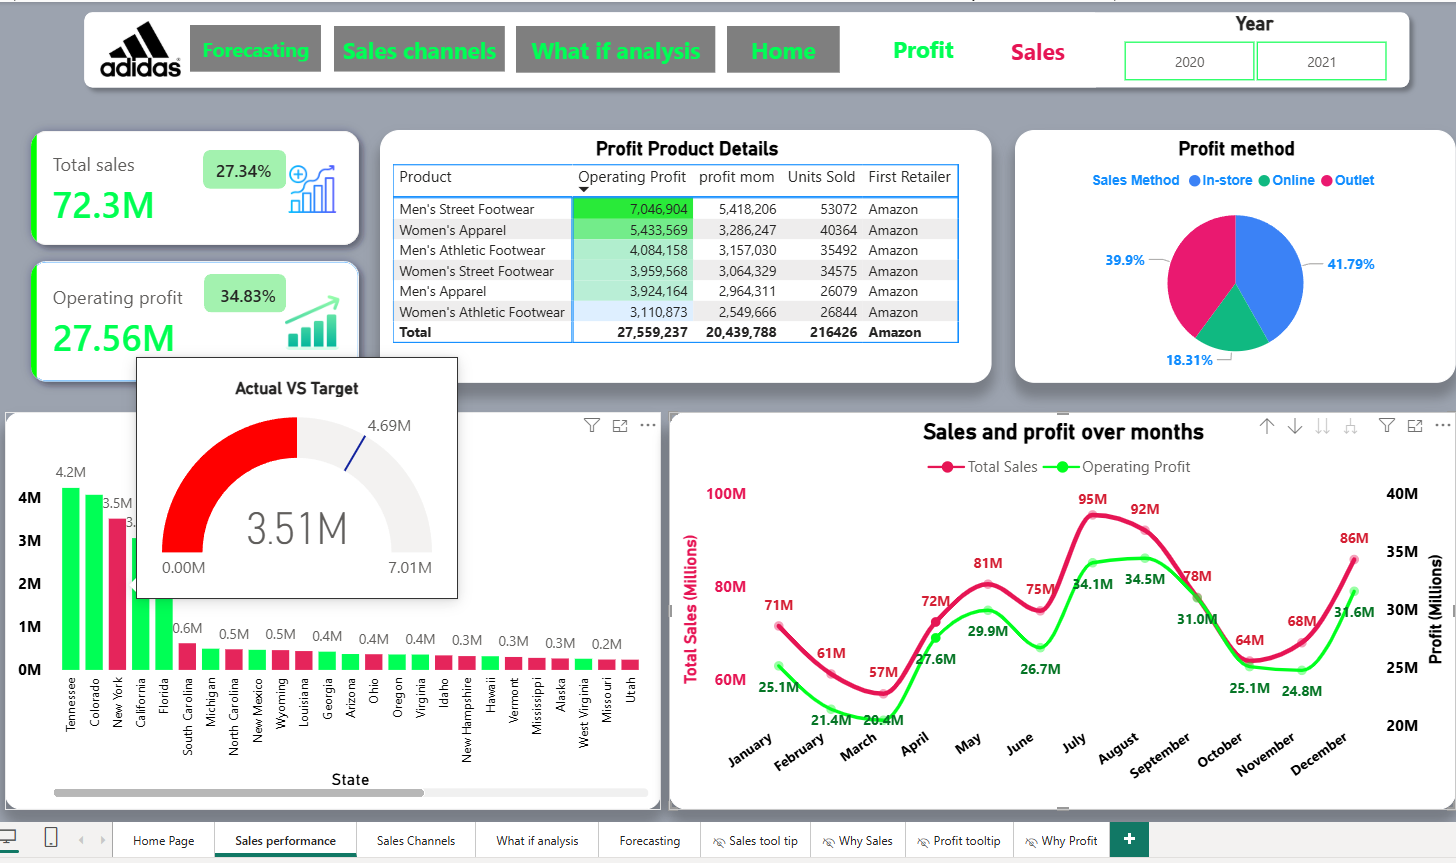

Layout of this report page (visuals, bound fields, positions):
{"tool":"powerbi","page":{"name":"Sales performance","canvas":[1280,720],"ordinal":1},"visuals":[{"type":"shape","title":"Navigation bar","box":[66.6,0,1181.4,84],"z":0},{"type":"cardVisual","title":"Total sales","fields":{"Data":["Sum(Data.Total Sales)"]},"box":[0,84,346,158.9],"z":1000},{"type":"cardVisual","fields":{"Data":["Sum(Data.Operating Profit)"]},"box":[0,198.1,346,164.3],"z":2000},{"type":"shape","box":[180.2,130.1,73,34.2],"z":3000},{"type":"cardVisual","fields":{"Data":["Data.Dynamic_Growth_Status"]},"box":[154,117.5,124.3,58.2],"z":4000},{"type":"slicer","title":"Year","fields":{"Values":["Date.Date.Variation.Date Hierarchy.Year"]},"box":[963,9.2,280.4,66.9],"z":5000},{"type":"shape","box":[180.8,239.2,72.1,33.8],"z":6000},{"type":"cardVisual","fields":{"Data":["Data.Dynamic_Growth_profit"]},"box":[154.3,226.7,130.5,59],"z":7000},{"type":"lineChart","title":"Sales and profit over months","fields":{"Category":["Date.Date.Variation.Date Hierarchy.Year","Date.Date.Variation.Date Hierarchy.Month"],"Y":["Sum(Data.Total Sales)"],"Y2":["Sum(Data.Operating Profit)"]},"box":[589.2,360,691,349.5],"z":8000},{"type":"pieChart","title":"Profit method","fields":{"Category":["Data.Sales Method"],"Y":["Sum(Data.Operating Profit)"]},"box":[893,112.4,387.2,222.1],"z":11000},{"type":"pivotTable","title":"Profit Product Details","fields":{"Rows":["Data.Product"],"Values":["Sum(Data.Operating Profit)","Data.profit mom","Sum(Data.Units Sold)","Min(Data.Retailer)"]},"box":[335.4,112.5,537.4,221.8],"z":12000},{"type":"columnChart","title":"Profit by State","fields":{"Category":["Data.State"],"Y":["Sum(Data.Operating Profit)"]},"box":[6.1,360,576,349.5],"z":13000},{"type":"actionButton","box":[863.1,22.9,99.9,39.4],"z":14000},{"type":"actionButton","box":[762.3,20.2,100.8,41.2],"z":15000},{"type":"actionButton","title":"Home","box":[640.5,21.1,99,41.2],"z":16000},{"type":"actionButton","box":[454.5,21.1,175,41.2],"z":17000},{"type":"actionButton","box":[295,21.1,150.3,40.3],"z":18000},{"type":"actionButton","box":[168.6,20.2,115.4,41.2],"z":20000},{"type":"image","box":[81.5,16.5,87,48.6],"z":21000}]}

Visuals, with their boxes on the page's 1280x720 design canvas (x1, y1, x2, y2). These are canvas units, not pixel positions in the 1456x863 screenshot, which may show the page scaled, cropped or inside an application window:
"Navigation bar" shape: <bbox>67, 0, 1248, 84</bbox>
"Total sales" cardVisual: <bbox>0, 84, 346, 243</bbox>
cardVisual - Sum(Data.Operating Profit): <bbox>0, 198, 346, 362</bbox>
shape: <bbox>180, 130, 253, 164</bbox>
cardVisual - Data.Dynamic_Growth_Status: <bbox>154, 118, 278, 176</bbox>
"Year" slicer: <bbox>963, 9, 1243, 76</bbox>
shape: <bbox>181, 239, 253, 273</bbox>
cardVisual - Data.Dynamic_Growth_profit: <bbox>154, 227, 285, 286</bbox>
"Sales and profit over months" lineChart: <bbox>589, 360, 1280, 710</bbox>
"Profit method" pieChart: <bbox>893, 112, 1280, 334</bbox>
"Profit Product Details" pivotTable: <bbox>335, 112, 873, 334</bbox>
"Profit by State" columnChart: <bbox>6, 360, 582, 710</bbox>
actionButton: <bbox>863, 23, 963, 62</bbox>
actionButton: <bbox>762, 20, 863, 61</bbox>
"Home" actionButton: <bbox>640, 21, 740, 62</bbox>
actionButton: <bbox>454, 21, 630, 62</bbox>
actionButton: <bbox>295, 21, 445, 61</bbox>
actionButton: <bbox>169, 20, 284, 61</bbox>
image: <bbox>82, 16, 168, 65</bbox>
